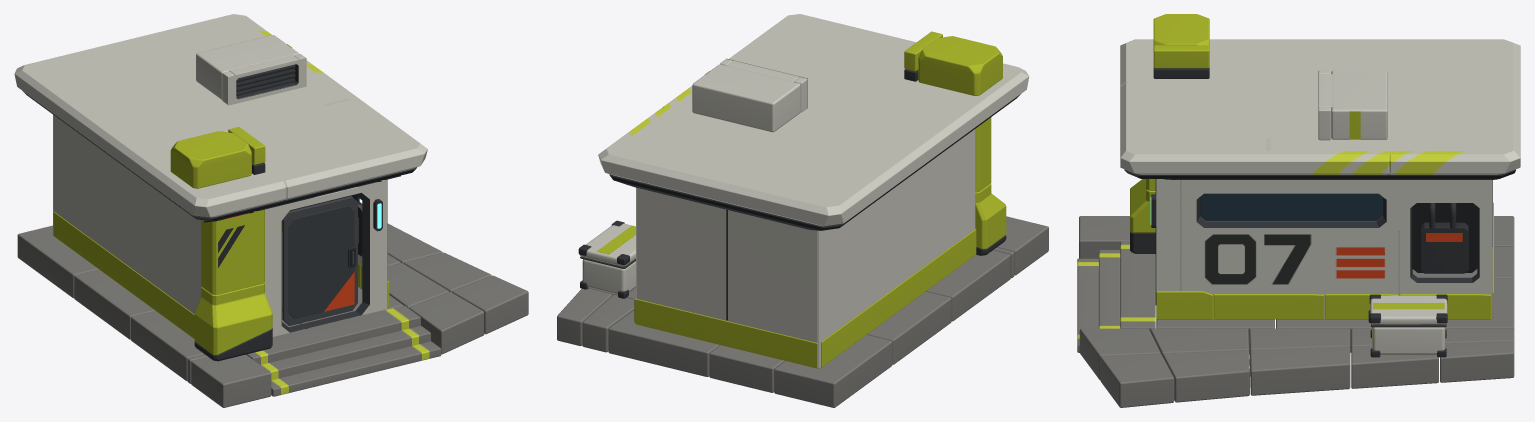
File: frontier-relay-07-v08.glb
The picture shows the model from 3 angles, left to right: view 1: azimuth 30°, elevation 25°; view 2: azimuth 150°, elevation 25°; view 3: azimuth 270°, elevation 25°; orthographic projection. The views are drawn at different scales.
Visible parts, largest first — view 1: Continuous clipped fascia, Left enclosed flank, Door leaf inset field, Entry cutout | surround, Equipment column | vertical upper shell, Equipment column | flared lower shell, Entry tread 3, Yellow roof utility cover, Left continuous base strip, Left deck 1.1, Entry tread 2, Entry tread 1 (+17 smaller); view 2: Continuous clipped fascia, Back enclosed wall, Left enclosed flank, HVAC structure rear, Core deck 1.3, Rear continuous base strip, Left continuous base strip, Yellow roof utility cover, Core deck 3.3, Core deck 1.2, Core deck 1.1, Core deck 2.3 (+10 smaller); view 3: Continuous clipped fascia, Horizontal aperture | surround, Side service aperture | surround, Tinted window backing, Right apron tile 3.2, Right apron tile 2.2, HVAC structure rear, Right apron tile 1.2, Right apron tile 4.2, Side base enamel panel 2, Entry tread 3, Right apron tile 5.2 (+30 smaller).
Boxes of the visible parts, bbox=[...] form: Continuous clipped fascia: bbox=[14, 14, 427, 217]; Left enclosed flank: bbox=[53, 115, 201, 314]; Door leaf inset field: bbox=[288, 205, 354, 318]; Entry cutout | surround: bbox=[264, 179, 387, 336]; Equipment column | vertical upper shell: bbox=[201, 209, 264, 294]; Equipment column | flared lower shell: bbox=[194, 282, 272, 354]; Entry tread 3: bbox=[246, 305, 420, 364]; Yellow roof utility cover: bbox=[170, 131, 251, 188]; Left continuous base strip: bbox=[53, 211, 194, 338]; Left deck 1.1: bbox=[191, 354, 271, 407]; Entry tread 2: bbox=[261, 326, 430, 380]; Entry tread 1: bbox=[271, 341, 441, 396]; Continuous clipped fascia: bbox=[598, 14, 1029, 226]; Back enclosed wall: bbox=[636, 188, 818, 367]; Left enclosed flank: bbox=[818, 129, 975, 368]; HVAC structure rear: bbox=[692, 64, 800, 132]; Core deck 1.3: bbox=[774, 334, 892, 407]; Rear continuous base strip: bbox=[635, 299, 817, 368]; Left continuous base strip: bbox=[821, 229, 976, 367]; Yellow roof utility cover: bbox=[918, 36, 1002, 95]; Core deck 3.3: bbox=[608, 310, 720, 376]; Core deck 1.2: bbox=[867, 291, 951, 364]; Core deck 1.1: bbox=[926, 250, 1010, 321]; Core deck 2.3: bbox=[709, 345, 784, 392]; Continuous clipped fascia: bbox=[1120, 39, 1520, 174]; Horizontal aperture | surround: bbox=[1156, 179, 1398, 318]; Side service aperture | surround: bbox=[1399, 180, 1491, 318]; Tinted window backing: bbox=[1200, 193, 1382, 221]; Right apron tile 3.2: bbox=[1250, 347, 1350, 395]; Right apron tile 2.2: bbox=[1162, 350, 1249, 402]; HVAC structure rear: bbox=[1331, 70, 1387, 139]; Right apron tile 1.2: bbox=[1100, 353, 1174, 407]; Right apron tile 4.2: bbox=[1351, 346, 1438, 388]; Side base enamel panel 2: bbox=[1213, 294, 1324, 319]; Entry tread 3: bbox=[1120, 241, 1155, 331]; Right apron tile 5.2: bbox=[1440, 341, 1514, 382].
Size of the model in its own units: 6.36 by 4.06 by 7.02.
Materials: 16 (4 with a texture image).
